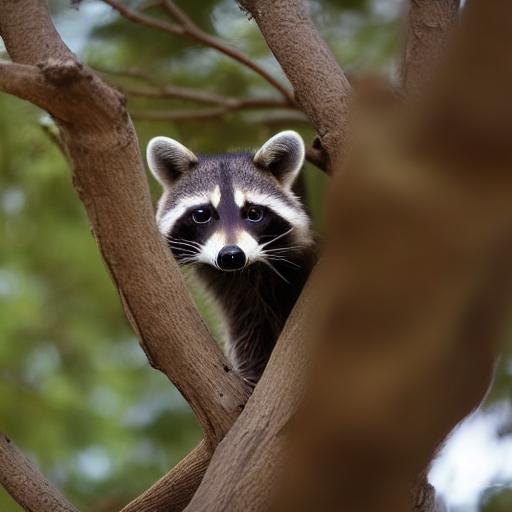raccoon: (143, 128, 321, 368)
